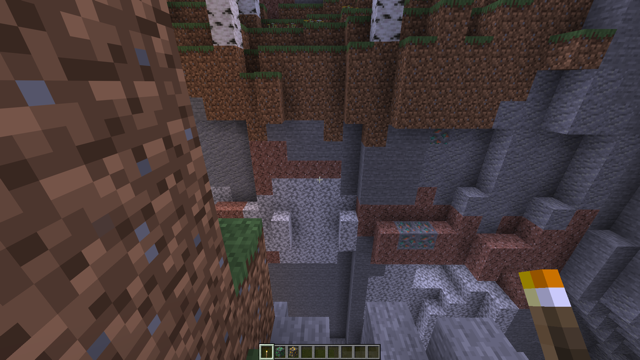copper: (393, 219, 439, 250), (430, 126, 451, 146)
